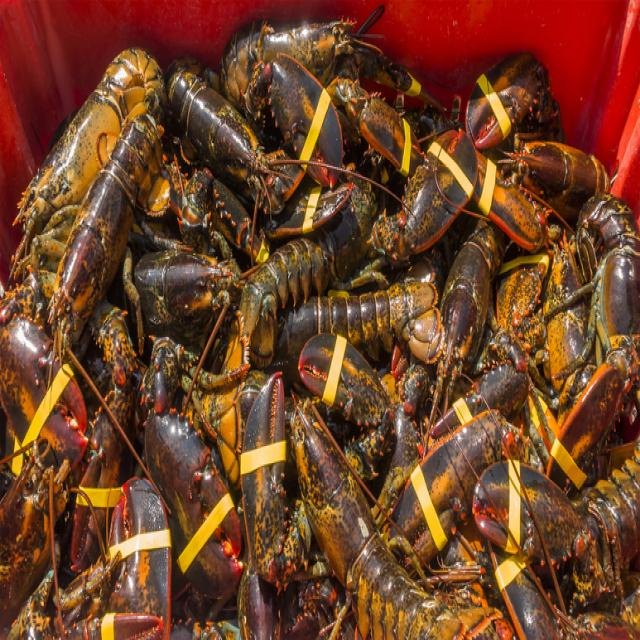Lobster: (0, 17, 640, 640)
